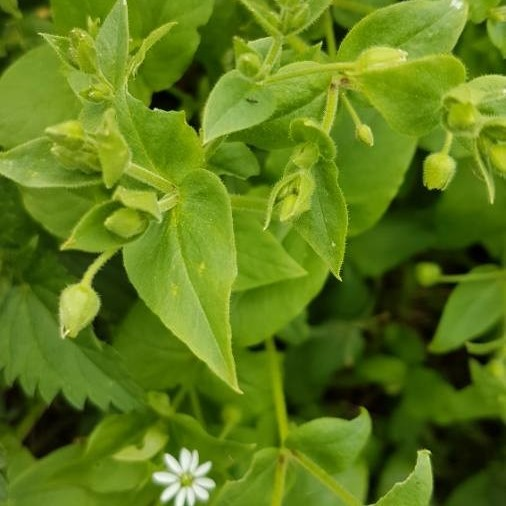obstacle: (27, 27, 420, 410)
